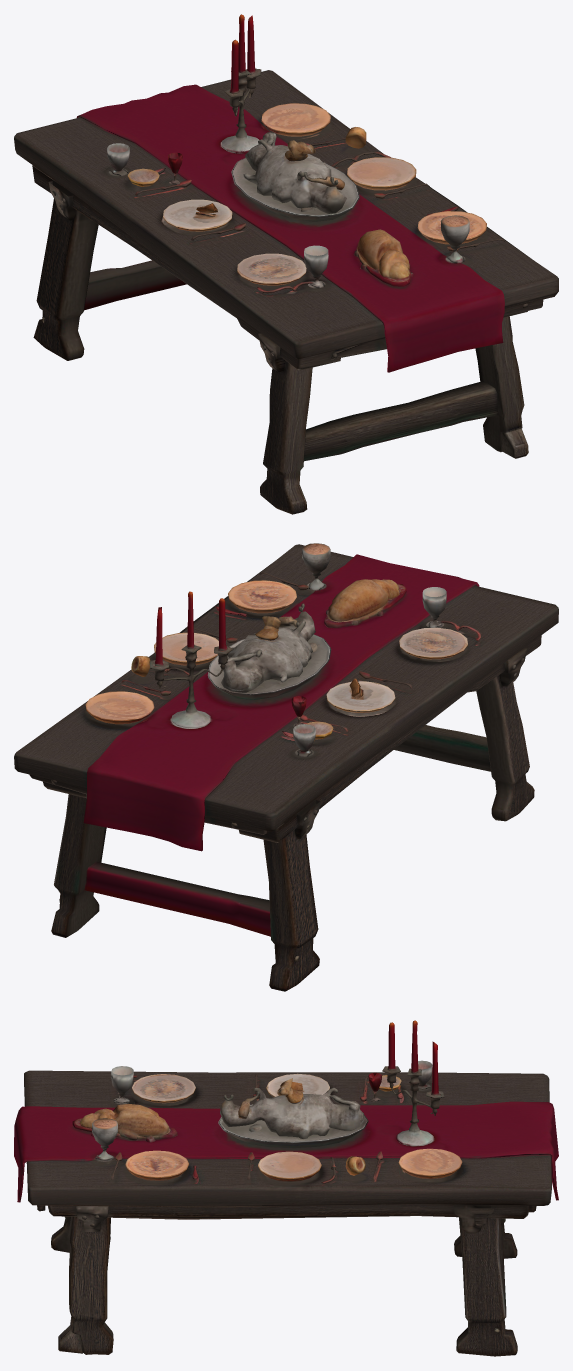
File: tavolo_banchetto.fbx
3 views of the same model, one above another, from view 1: azimuth 30°, elevation 25°; view 2: azimuth 150°, elevation 25°; view 3: azimuth 270°, elevation 25° (orthographic). The views are drawn at different scales.
Visible parts, largest first — view 1: tripo_node_1822ae3a; view 2: tripo_node_1822ae3a; view 3: tripo_node_1822ae3a.
Boxes of the visible parts, box(x1,y1,x2,y2) form: tripo_node_1822ae3a: box(14, 14, 558, 514); tripo_node_1822ae3a: box(14, 543, 558, 991); tripo_node_1822ae3a: box(14, 1020, 558, 1356).
Bounding box in the file's own units: 0.5142 × 0.606 × 0.9995.
Materials: 1 (1 with a texture image).
